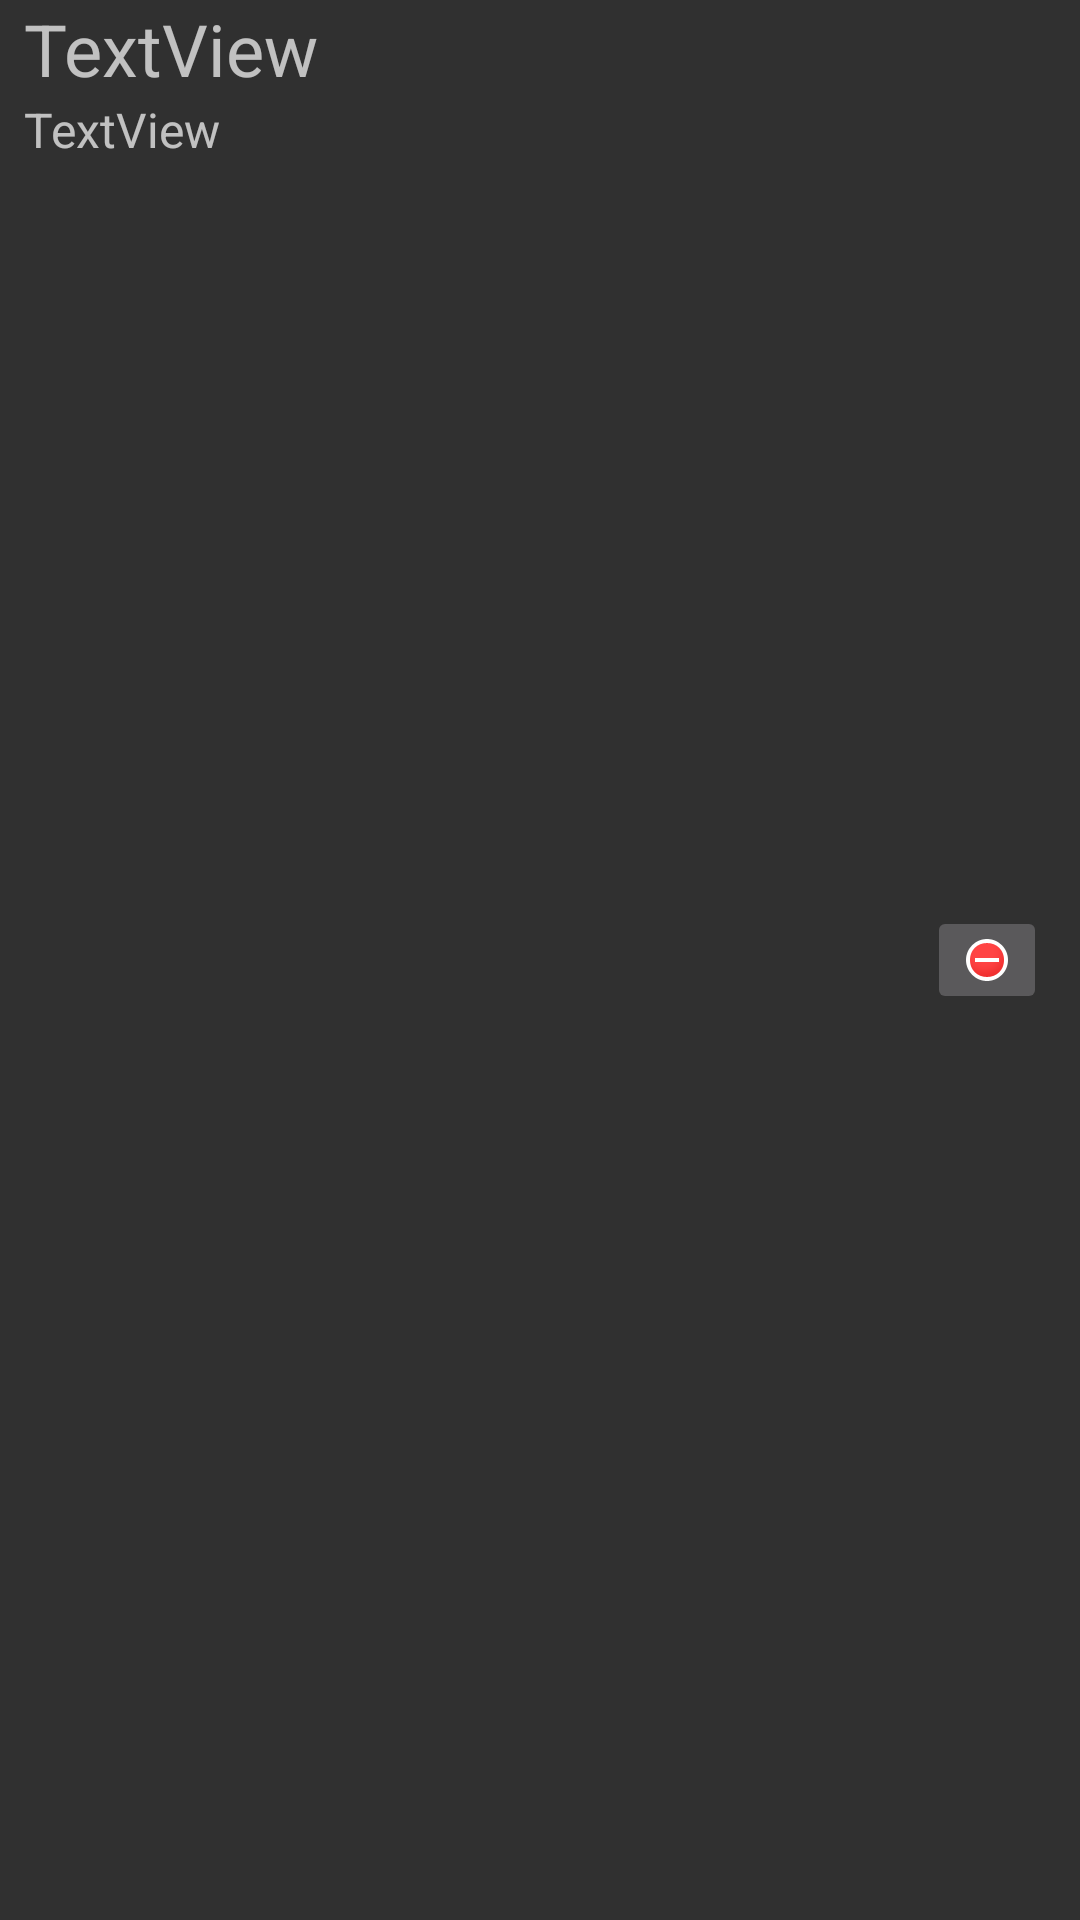

Screen size 1080 × 1920. Icon name, then its center in pixels as point (x, y):
presence busy: point (987, 960)
